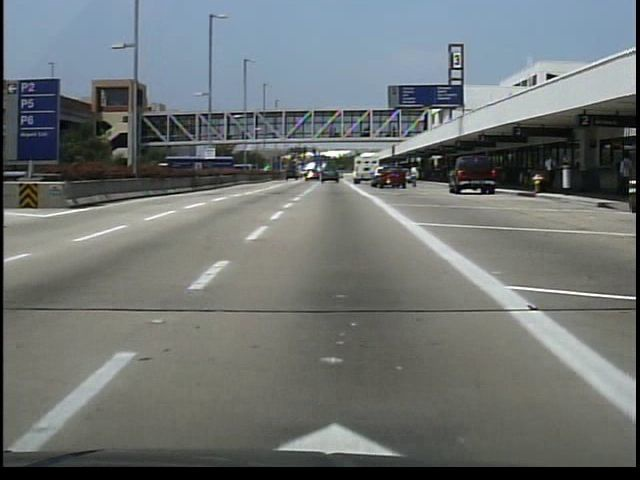person: (540, 154, 560, 198), (409, 168, 423, 190)
